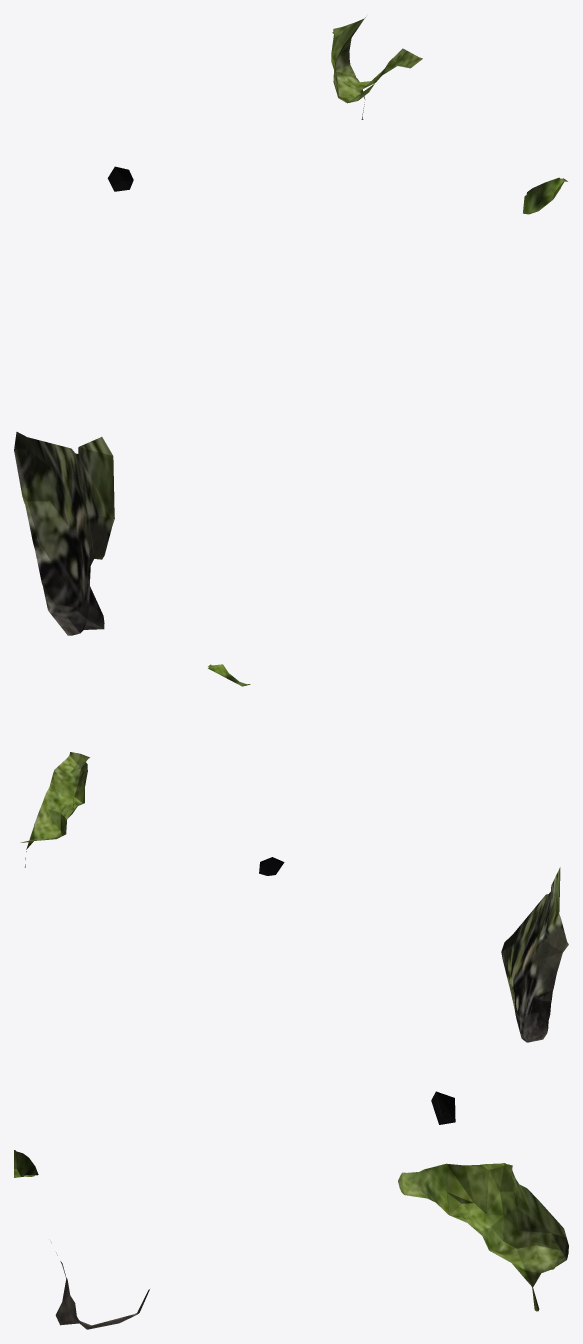
The picture shows the model from 3 angles, top to bottom: view 1: azimuth 30°, elevation 25°; view 2: azimuth 150°, elevation 25°; view 3: azimuth 270°, elevation 25°; orthographic projection. The views are drawn at different scales.
Bounding box in the file's own units: 5.9 × 4.14 × 5.08.
1 material, 1 textured.
